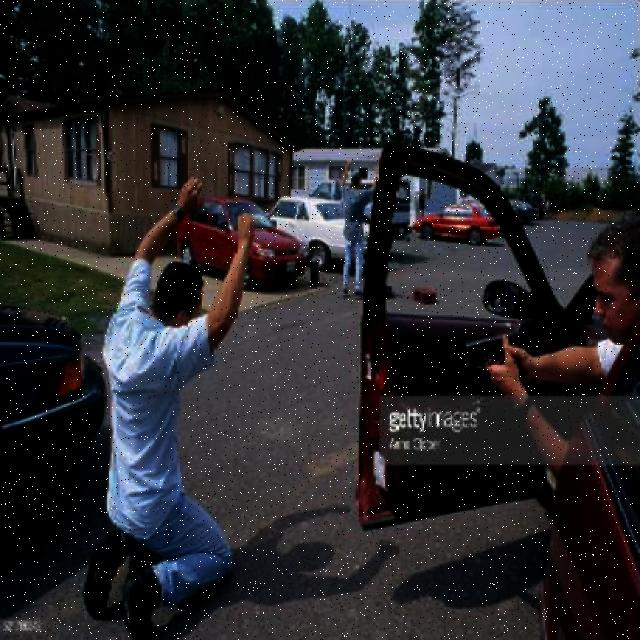Guns: (457, 326, 524, 388)
